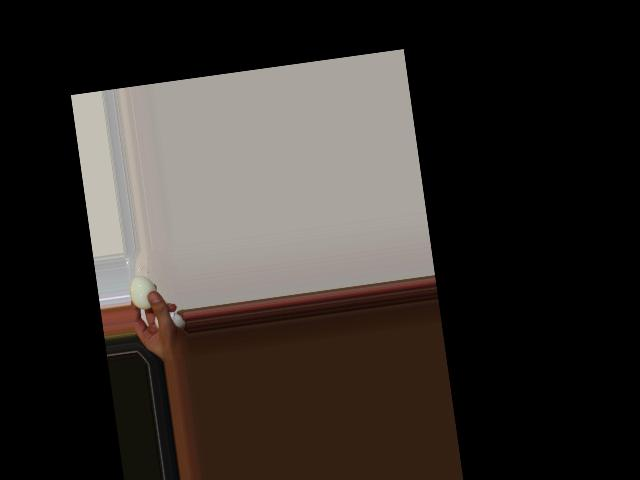egg: (127, 274, 159, 310)
